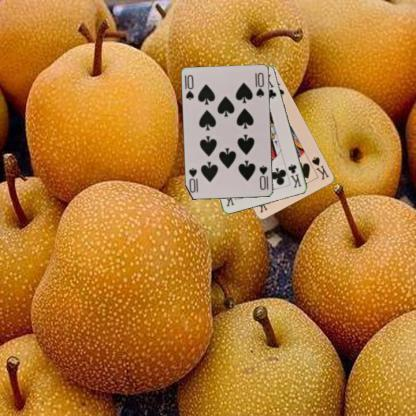10s: (257, 162, 269, 192), (183, 72, 195, 102)
Kc: (285, 162, 303, 190)
Ks: (309, 154, 331, 182)
